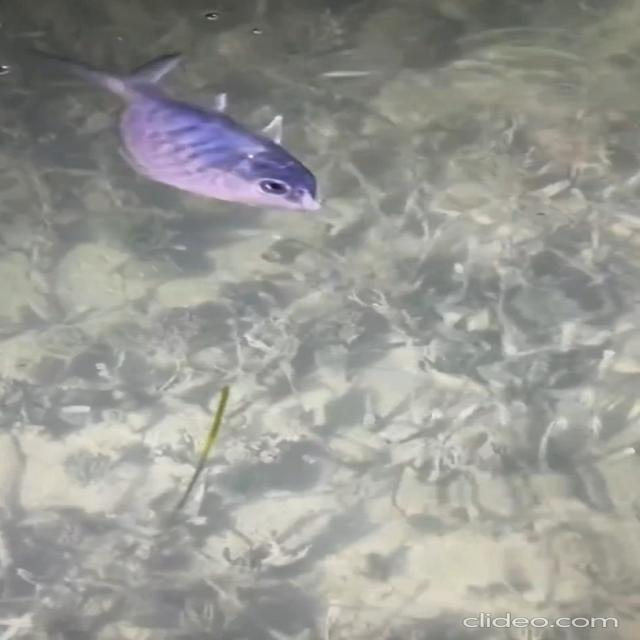fish: (48, 50, 368, 242)
